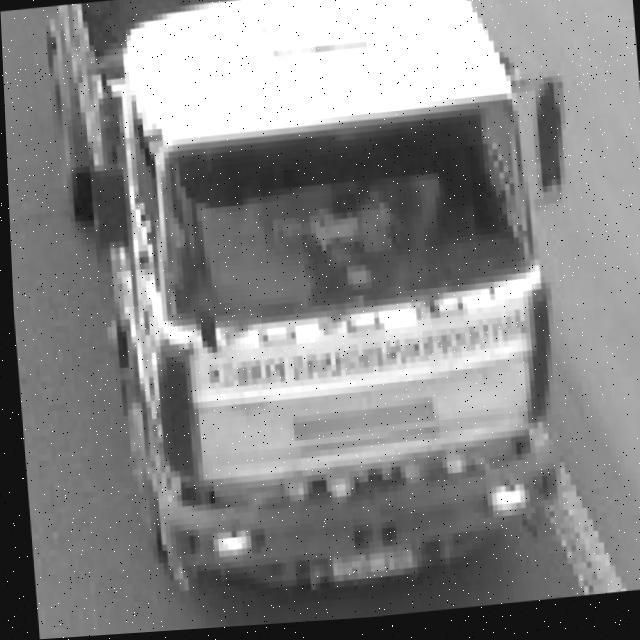truck: (34, 0, 587, 614)
